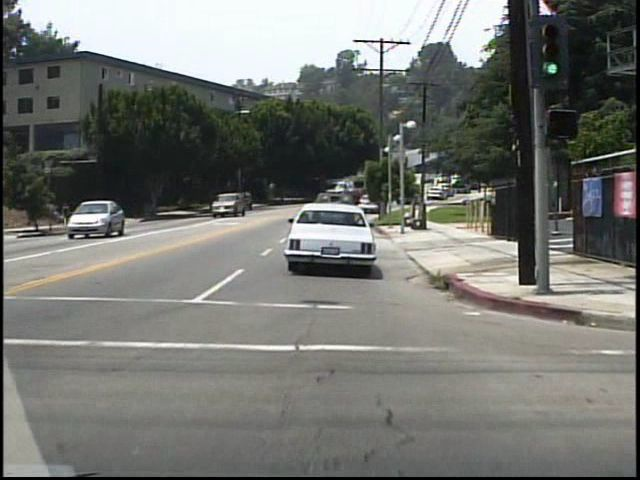person: (62, 202, 75, 229)
